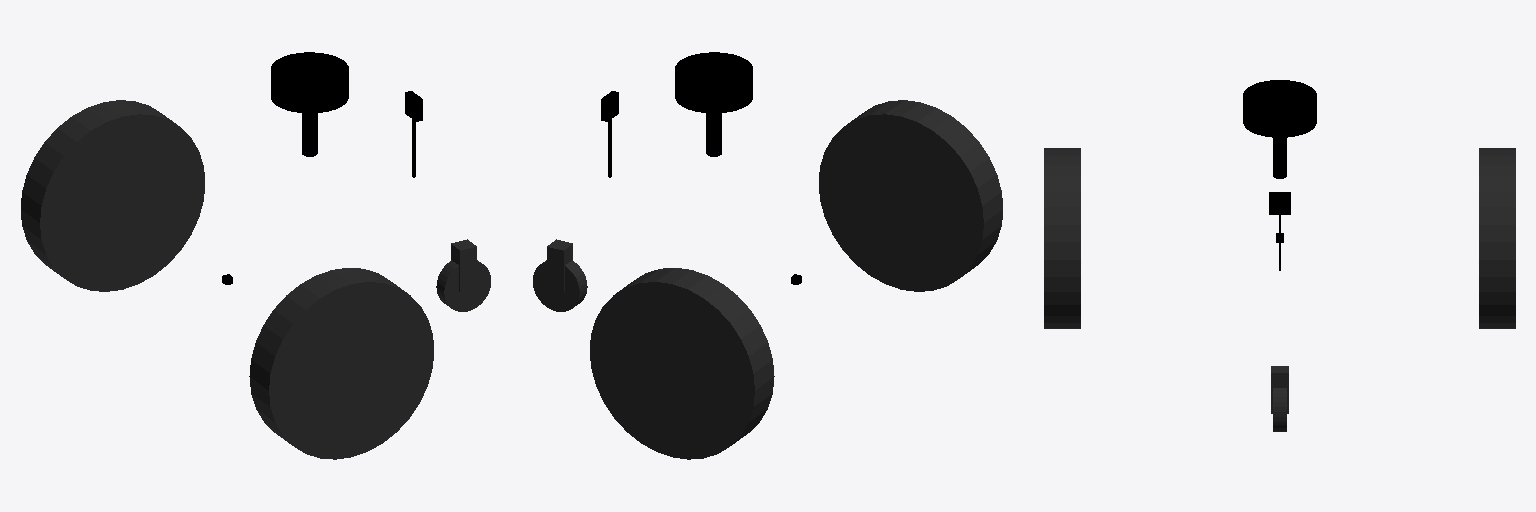
URDF robot description (dustbuster):
<?xml version="1.0" ?>
<!-- @file dustbuster.urdf
@brief This file contains the description of the DustBuster robot model.

@details This file includes the robot's links, joints, materials, sensors, and other properties used in the simulation, nav2 and slam.
-->
<robot name="dustbuster">
  <!-- Specify some standard inertial calculations https://en.wikipedia.org/wiki/List_of_moments_of_inertia -->
  <!-- These make use of xacro's mathematical functionality -->
  <material name="white">
    <color rgba="1 1 1 1"/>
  </material>

  <material name="grey">
    <color rgba="0.212 0.212 0.212 1"/>
  </material>

  <material name="steel">
    <color rgba="0.5 0.5 0.5 1"/>
  </material>

  <material name="black">
    <color rgba="0 0 0 1"/>
  </material>

  <!-- BASE LINK -->
  <link name="base_link">

  </link>
  <!-- BASE_FOOTPRINT LINK -->
  <joint name="base_footprint_joint" type="fixed">
    <parent link="base_link"/>
    <child link="base_footprint"/>
    <origin rpy="0 0 0" xyz="0 0 0"/>
  </joint>
  <link name="base_footprint">
    </link>
  <!-- CHASSIS LINK -->
  <joint name="chassis_joint" type="fixed">
    <parent link="base_link"/>
    <child link="chassis"/>
    <origin xyz="0 0 0"/>
  </joint>
  
  <link name="chassis">
    <inertial>
      <mass value="22.5"/>
      <inertia ixx="0.413495" ixy="-0.001" ixz="-0.031" iyy="0.5608725" iyz="0.00" izz="0.8594225" />
      <origin rpy="0 -0 0" xyz="0 0 0"/> <!-- x: 0 -->
    </inertial>
    <visual name="visual">
      <origin rpy="0 -0 0" xyz="0 0 0"/> <!-- x: 0 -->

    <!-- Import mesh from package doesn't work -->
    <!-- https://answers.ros.org/question/401649/gazebo-does-not-spawn-mesh/-->
    <geometry>
      <mesh filename="file://[local-path]/Desktop/DustBusterAI-Software/dustbuster_ws/src/dustbuster_launch/dustbuster_launch/description/mesh/chassis.stl"/>
    </geometry>
      <material name="steel"/>
    </visual>

    <!-- Import mesh from package doesn't work -->
    <!-- https://answers.ros.org/question/401649/gazebo-does-not-spawn-mesh/-->
    <collision name="collision">
      <origin rpy="0 -0 0" xyz="0 0 0"/>
      <geometry>
        <mesh filename="file://[local-path]/Desktop/DustBusterAI-Software/dustbuster_ws/src/dustbuster_launch/dustbuster_launch/description/mesh/chassis.stl"/>
      </geometry>
    </collision>

  </link>


  <!-- LEFT WHEEL LINK -->
  <joint name="left_wheel_joint" type="continuous">
    <parent link="base_link"/>
    <child link="left_wheel"/>
    <origin rpy="-1.5707963267948966 0 0" xyz="0 0.2935 0"/> <!-- x: 0 -->
    <axis xyz="0 0 1"/>
  </joint>
  <link name="left_wheel">
    <visual>
      <geometry>
        <cylinder length="0.05" radius="0.1225"/>
      </geometry>
      <material name="grey"/>
    </visual>
    <collision>
      <geometry>
        <cylinder length="0.05" radius="0.1225"/>
      </geometry>
    </collision>
    <inertial>
      <origin rpy="0 0 0" xyz="0 0 0"/>
      <mass value="0.5"/>
			<inertia ixx="0.0019799479" ixy="0.0" ixz="0.0" iyy="0.00375234375" iyz="0.0" izz="0.0019799479"/>
    </inertial>
  </link>
  <gazebo reference="left_wheel">
    <material>Gazebo/Grey</material>
    <surface>
      <friction>
        <ode>
          <mu>0.8</mu>
          <mu2>0.7</mu2>
        </ode>
      </friction>
    </surface>
  </gazebo>

  <!-- RIGHT WHEEL LINK -->
  <joint name="right_wheel_joint" type="continuous">
    <parent link="base_link"/>
    <child link="right_wheel"/>
    <origin rpy="1.5707963267948966 0 0" xyz="0 -0.2935 0"/> <!-- x: 0 -->
    <axis xyz="0 0 -1"/>
  </joint>
  <link name="right_wheel">
    <visual>
      <geometry>
        <cylinder length="0.05" radius="0.1225"/>
      </geometry>
      <material name="grey"/>
    </visual>
    <collision>
      <geometry>
        <cylinder length="0.05" radius="0.1225"/>
      </geometry>
    </collision>
    <inertial>
      <origin rpy="0 0 0" xyz="0 0 0"/>
      <mass value="0.5"/>
			<inertia ixx="0.00375234375" ixy="0.0" ixz="0.0" iyy="0.0019799479" iyz="0.0" izz="0.0019799479"/>
    </inertial>
  </link>
  <gazebo reference="right_wheel">
    <material>Gazebo/Grey</material>
    <surface>
      <friction>
        <ode>
          <mu>0.8</mu>
          <mu2>0.7</mu2>
        </ode>
      </friction>
    </surface>
  </gazebo>

  <!-- CASTER WHEEL MOUNT LINK -->
  <link name="caster_wheel_mount">
    <visual>
      <geometry>
        <box size="0.025 0.025 0.06"/>
      </geometry>
      <material name="grey"/>
    </visual>
    <collision>
      <geometry>
        <box size="0.025 0.025 0.06"/>
      </geometry>
    </collision>
    <inertial>
      <origin rpy="0 0 0" xyz="0 0 0"/>
      <mass value="0.1"/> 
      <inertia ixx="0.00003520833" ixy="0.0" ixz="0.0" iyy="0.00003520833" iyz="0.0" izz="0.0000104166667"/>
    </inertial>
  </link>

  <joint name="caster_wheel_mount_joint" type="revolute">
    <parent link="chassis"/>
    <child link="caster_wheel_mount"/>
    <origin rpy="0 0 0" xyz="0.35 0 -0.0625"/> <!-- x: 0.35 -->
    <axis xyz="0 0 1"/>
    <limit lower="-100000000000000000000" upper="100000000000000000000" effort="1.0" velocity="2.0"/>
  </joint>

  <!-- CASTER WHEEL LINK -->
  <link name="caster_wheel">
    <visual>
      <geometry>	
        <cylinder length="0.02" radius="0.035"/>
      </geometry>
      <material name="grey"/>
    </visual>
    <collision>
      <geometry>
        <cylinder length="0.02" radius="0.035"/>
      </geometry>
    </collision>
    <inertial>
      <origin rpy="0 0 0" xyz="0 0 0"/>
      <mass value="0.1"/>
			<inertia ixx="0.000033958333" ixy="0.0" ixz="0.0" iyy="0.00006125" iyz="0.0" izz="0.000033958333"/>
    </inertial>
  </link>

  <gazebo reference="caster_wheel">
    <material>Gazebo/Grey</material>
    <surface>
      <friction>
        <ode>
          <mu>0.8</mu>
          <mu2>0.7</mu2>
        </ode>
      </friction>
    </surface>
  </gazebo>

  <!-- CASTER WHEEL JOINT -->
  <joint name="caster_wheel_joint" type="revolute">
    <parent link="caster_wheel_mount"/>
    <child link="caster_wheel"/>
    <origin rpy="1.5707963267948966 0 0" xyz="0 0 -0.025"/> <!-- x: 0.35 -->
    <axis xyz="0 0 1"/>
    <limit lower="-100000000000000000000" upper="100000000000000000000" effort="1.0" velocity="2.0"/>
  </joint>


  <joint name="laser_joint" type="fixed">
    <parent link="chassis"/>
    <child link="laser_frame"/>
    <origin rpy="0 0 0" xyz="0.122 0 0.25"/> <!-- x: 0.122 -->
  </joint>
  <link name="laser_frame">
    <visual>
      <geometry>
        <cylinder length="0.04" radius="0.05"/>
      </geometry>
      <material name="black"/>
    </visual>
    <visual>
      <origin xyz="0 0 -0.05"/>
      <geometry>
        <cylinder length="0.1" radius="0.01"/>
      </geometry>
      <material name="black"/>
    </visual>
    <collision>
      <geometry>
        <cylinder length="0.04" radius="0.05"/>
      </geometry>
    </collision>
    <inertial>
      <origin rpy="0 0 0" xyz="0 0 0"/>
      <mass value="0.1"/>
      <inertia ixx="7.583333333333335e-05" ixy="0.0" ixz="0.0" iyy="7.583333333333335e-05" iyz="0.0" izz="0.00012500000000000003"/>
    </inertial>
  </link>
  <gazebo reference="laser_frame">
    <material>Gazebo/Black</material>
    <sensor name="laser" type="ray">
      <pose> 0 0 0 0 0 0 </pose>
      <visualize>true</visualize>
      <update_rate>10</update_rate>
      <ray>
        <scan>
          <horizontal>
            <samples>360</samples>
            <min_angle>-2.35619449</min_angle>
            <max_angle>2.35619449</max_angle>
          </horizontal>
        </scan>
        <range>
          <min>0.3</min>
          <max>5.6</max>
        </range>
      </ray>
      <plugin filename="libgazebo_ros_ray_sensor.so" name="laser_controller">
        <ros>
          <argument>~/out:=scan</argument>
        </ros>
        <output_type>sensor_msgs/LaserScan</output_type>
        <frame_name>laser_frame</frame_name>
      </plugin>
    </sensor>
  </gazebo>
  <joint name="camera_joint" type="fixed">
    <parent link="chassis"/>
    <child link="camera_link"/>
    <origin rpy="0 0 0" xyz="0.276 0 0.181"/> <!-- x: 0.276 -->
  </joint>

  <link name="camera_link">
    <visual>
      <geometry>
        <box size="0.010 0.03 0.03"/>
      </geometry>
      <material name="black"/>
    </visual>
    <visual>
      <origin xyz="0 0 -0.05"/>
      <geometry>
        <cylinder length="0.1" radius="0.002"/>
      </geometry>
      <material name="black"/>
    </visual>
    <inertial> <!--inertial parameters of camera_link is used to balance the center of mass, they do not actually belong to camera-->
      <mass value="3.1"/> 
      <origin xyz="0 0 0"/>
      <inertia ixx="0.01" ixy="0" ixz="0" iyy="0.01" iyz="0" izz="0.01"/>
    </inertial>
</link>

  <joint name="camera_optical_joint" type="fixed">
    <parent link="camera_link"/>
    <child link="camera_link_optical"/>
    <origin rpy="-1.5707963267948966 0 -1.5707963267948966" xyz="0.5 0 0"/>
  </joint>
	
  <link name="camera_link_optical"/>
  <gazebo reference="camera_link">
    <material>Gazebo/Black</material>
    <sensor name="camera" type="camera">
      <pose> 0 0 0 0 0 0 </pose>
      <visualize>true</visualize>
      <update_rate>10</update_rate>
      <camera>
        <horizontal_fov>1.089</horizontal_fov>
        <image>
          <format>R8G8B8</format>
          <width>640</width>
          <height>480</height>
        </image>
        <clip>
          <near>0.05</near>
          <far>8.0</far>
        </clip>
      </camera>
      <plugin filename="libgazebo_ros_camera.so" name="camera_controller">
        <frame_name>camera_link_optical</frame_name>
      </plugin>
    </sensor>
  </gazebo>

  <gazebo>
    <plugin name="diff_drive" filename="libgazebo_ros_diff_drive.so">
      <!-- Wheel Information -->
      <left_joint>left_wheel_joint</left_joint>
      <right_joint>right_wheel_joint</right_joint>
      <wheel_separation>0.587</wheel_separation>
      <wheel_diameter>0.245</wheel_diameter>

      <!-- Limits -->
      <max_wheel_torque>200</max_wheel_torque>
      <max_wheel_acceleration>10.0</max_wheel_acceleration>

      <!-- Output -->
      <odometry_frame>odom</odometry_frame>
      <robot_base_frame>base_link</robot_base_frame>

      <publish_odom>true</publish_odom>
      <publish_odom_tf>true</publish_odom_tf>
      <publish_wheel_tf>true</publish_wheel_tf>

    </plugin>
	</gazebo>

	<link name="imu_link">
		<inertial>
			<origin rpy="0 0 0" xyz="0 0 0"/>
			<mass value="0.01"/>
			<inertia ixx="0.00001" ixy="0" ixz="0" iyy="0.00001" iyz="0" izz="0.00001"/>
		</inertial>
		<visual>
			<origin rpy="0 0 0" xyz="0 0 0"/>
			<geometry>
				<box size="0.01 0.01 0.01"/>
			</geometry>
			<material name="black"/>
		</visual>
	</link>

	<joint name="imu_joint" type="fixed">
		<parent link="base_link"/>
		<child link="imu_link"/>
		<origin rpy="0 0 0" xyz="0 0 0"/> 
	</joint>

	<gazebo reference="imu_link">
		<sensor name="imu_sensor" type="imu">
			<always_on>true</always_on>
			<update_rate>200</update_rate>
			<plugin name="gazebo_ros_imu_controller" filename="libgazebo_ros_imu_sensor.so">
				<ros>
					<argument>~/out:=imu</argument>
				</ros>
				<body_name>imu_link</body_name>
				<topicName>imu/data</topicName>
				<frameId>imu_link</frameId>
				<xyzOffsets>0 0 0</xyzOffsets>
				<rpyOffsets>0 0 0</rpyOffsets>
				<gaussianNoise>0.0</gaussianNoise>
				<biasTopic>~/imu/bias</biasTopic>
			</plugin>
		</sensor>
	</gazebo>

</robot>

--- Render facts (derived) ---
The picture shows the robot from 3 angles, left to right: view 1: azimuth 30°, elevation 25°; view 2: azimuth 150°, elevation 25°; view 3: azimuth 270°, elevation 25°; orthographic projection.
Robot: dustbuster — 11 links, 10 joints (2 revolute, 2 continuous, 6 fixed); root link base_link; default pose: every joint at zero.
Visible links, largest first — view 1: left_wheel, right_wheel, laser_frame, caster_wheel, caster_wheel_mount, camera_link; view 2: left_wheel, right_wheel, laser_frame, caster_wheel, caster_wheel_mount, camera_link; view 3: left_wheel, right_wheel, laser_frame, camera_link, caster_wheel.
Link boxes in pixels (x1,y1,x2,y2): left_wheel: (21,100,204,291); right_wheel: (249,268,433,459); laser_frame: (271,52,348,156); caster_wheel: (436,260,490,311); caster_wheel_mount: (451,239,476,292); camera_link: (405,91,422,177); left_wheel: (590,268,774,459); right_wheel: (819,100,1002,291); laser_frame: (675,52,752,156); caster_wheel: (533,260,587,311); caster_wheel_mount: (547,239,572,292); camera_link: (601,91,618,177); left_wheel: (1479,148,1515,328); right_wheel: (1044,148,1080,328); laser_frame: (1243,80,1316,178); camera_link: (1269,192,1290,270); caster_wheel: (1273,388,1286,431).
Size in the robot's own frame: 0.5075 by 0.637 by 0.3925 metres.
Geometry: only primitive shapes (box / cylinder / sphere) drawn; not drawn: 1 mesh visual (reference in a form the renderer does not follow).
